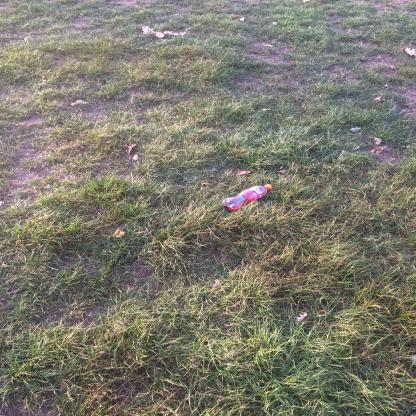Clear plastic bottle: (223, 184, 272, 211)
Plastic bottle cap: (266, 184, 272, 190)
